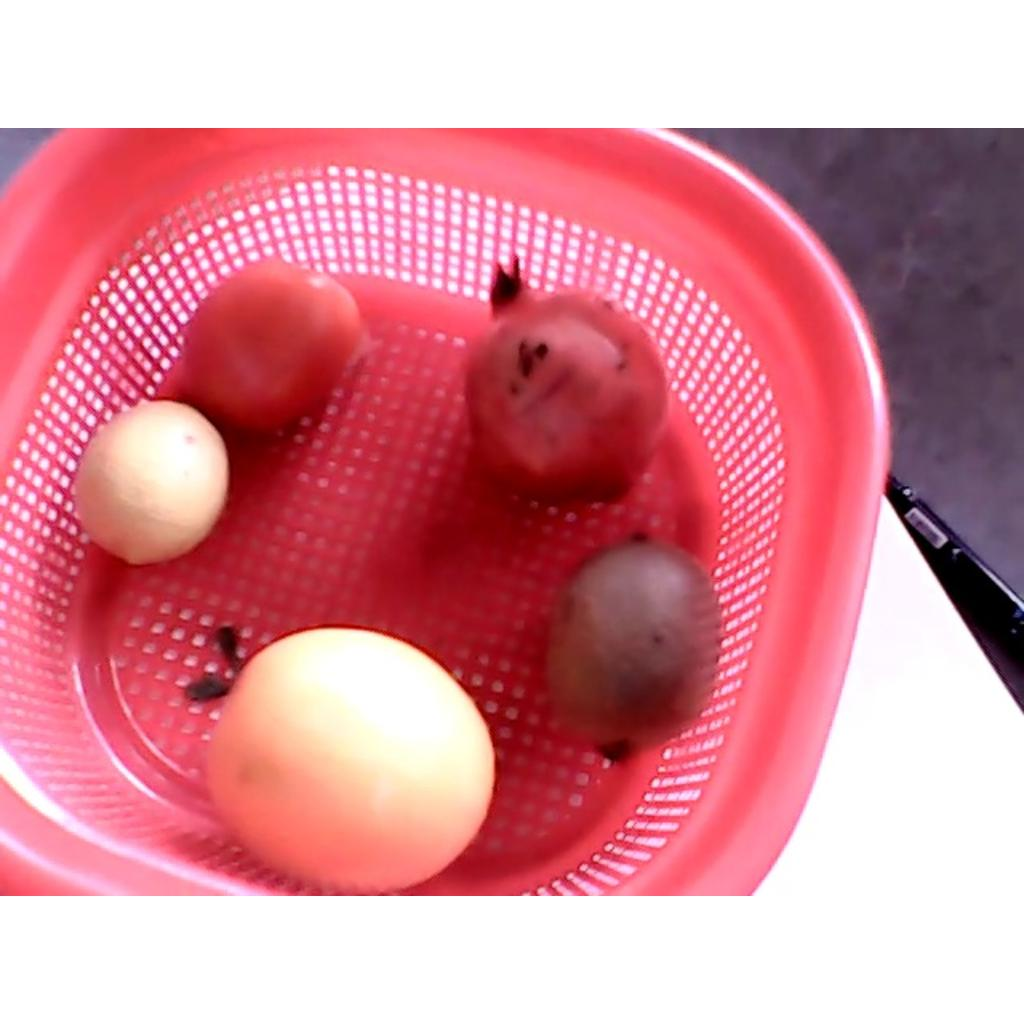kiwi: (546, 531, 719, 762)
lemon: (75, 404, 229, 564)
orange: (186, 626, 495, 893)
pomegranate: (462, 257, 672, 507)
tomato: (181, 257, 356, 433)
